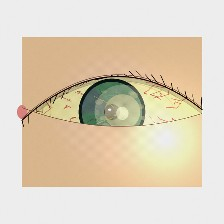corneal_ulcer: (93, 89, 151, 135)
